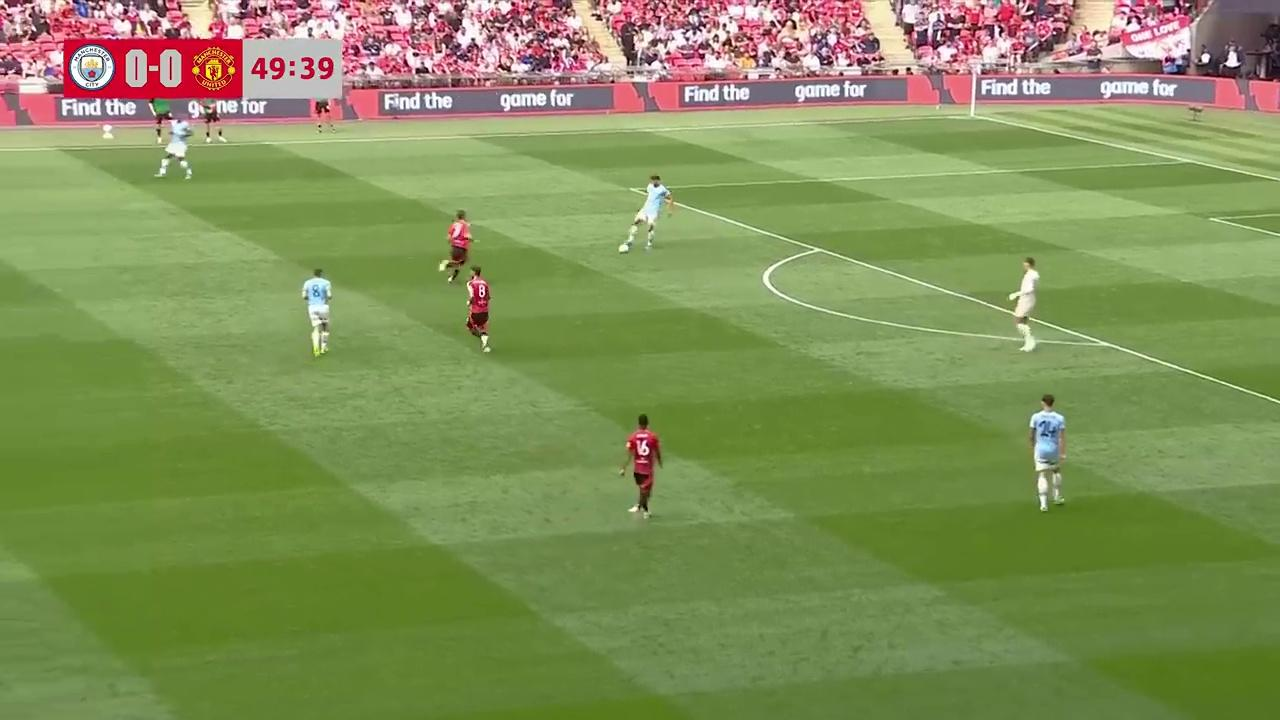ball: (616, 240, 630, 255)
player: (619, 171, 677, 253), (1028, 395, 1066, 511), (621, 414, 661, 521), (301, 266, 332, 357), (1009, 257, 1038, 351), (440, 211, 474, 283), (154, 118, 192, 179), (465, 266, 491, 352)
